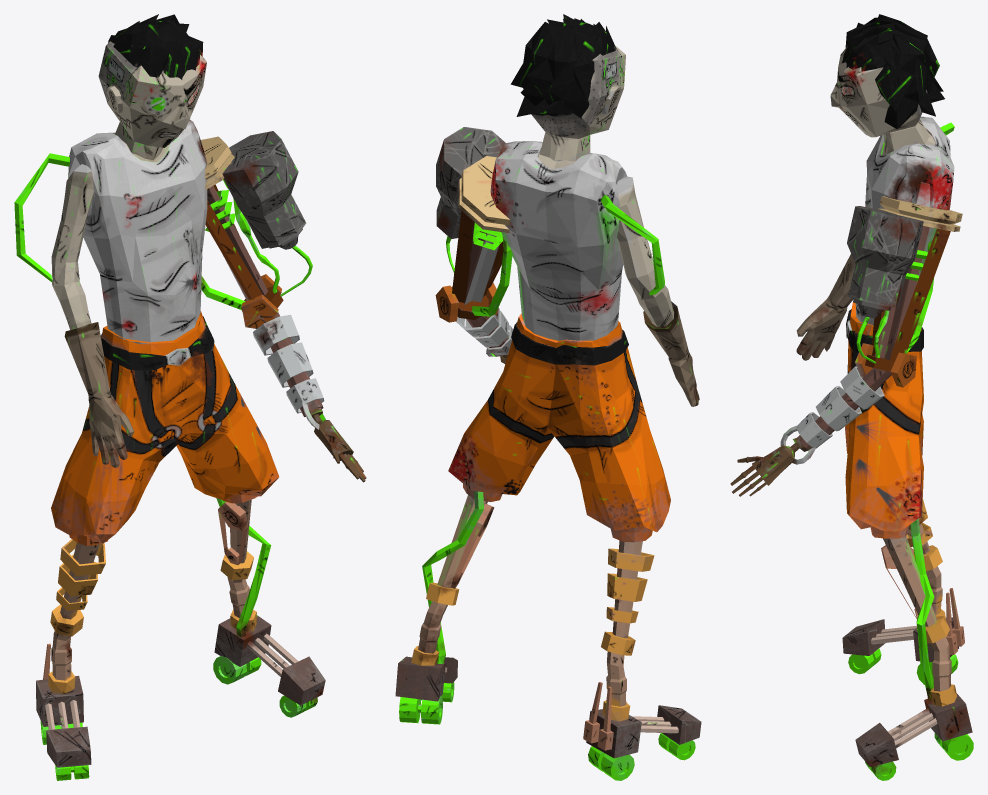
File: CyborgFINALAnimation_000038.obj
3 renders of one model, left to right at view 1: azimuth 30°, elevation 25°; view 2: azimuth 150°, elevation 25°; view 3: azimuth 270°, elevation 25°, orthographic. The views are drawn at different scales.
Parts seen in each view (by area): view 1: CyborgMesh_Cube.002; view 2: CyborgMesh_Cube.002; view 3: CyborgMesh_Cube.002.
Part boxes in pixels (bbox=[...]): CyborgMesh_Cube.002: bbox=[14, 14, 366, 780]; CyborgMesh_Cube.002: bbox=[395, 14, 701, 780]; CyborgMesh_Cube.002: bbox=[730, 14, 973, 780].
Bounding box in the file's own units: 3.83 × 9.68 × 3.08.
